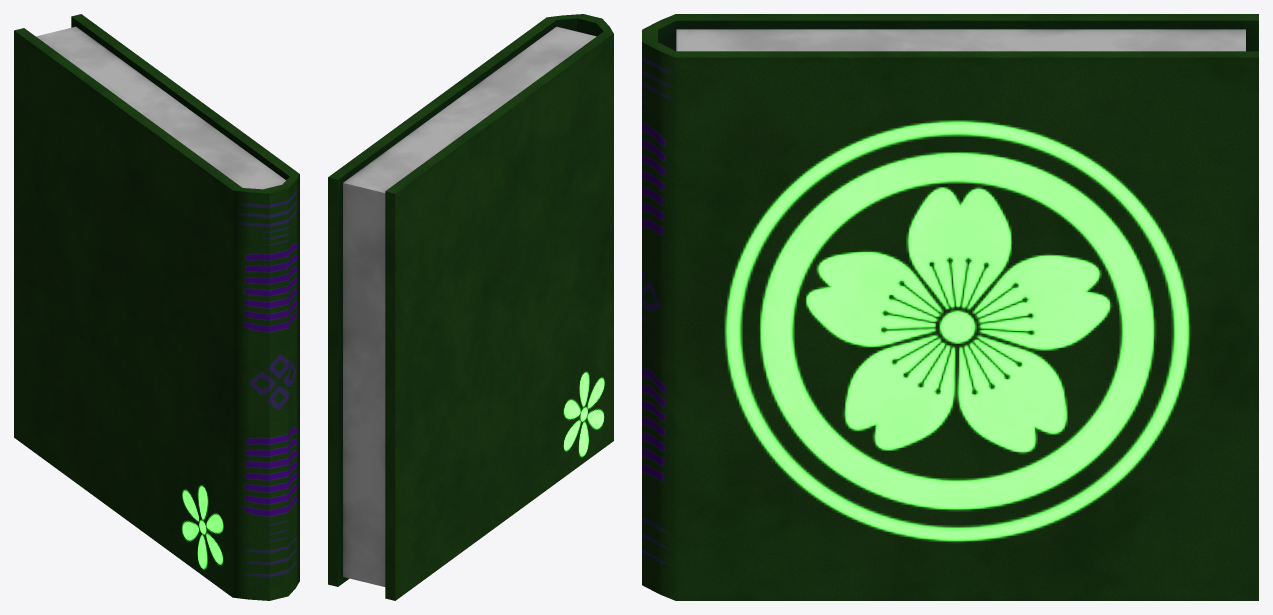
The model's file is Libro_Ev2 1.fbx.
3 renders of one model, left to right at view 1: azimuth 30°, elevation 25°; view 2: azimuth 150°, elevation 25°; view 3: azimuth 270°, elevation 25°, orthographic. The views are drawn at different scales.
Visible parts, largest first — view 1: Libro_E_geo, Hojas_E; view 2: Libro_E_geo, Hojas_E; view 3: Libro_E_geo, Hojas_E.
Boxes of the visible parts, x1,y1,x2,y2 form: Libro_E_geo: (14, 14, 299, 600); Hojas_E: (36, 26, 285, 189); Libro_E_geo: (328, 14, 613, 600); Hojas_E: (343, 26, 596, 586); Libro_E_geo: (642, 14, 1258, 600); Hojas_E: (676, 29, 1245, 51).
Bounding box in the file's own units: 4.07 × 23.5 × 24.19.
1 material, 1 textured.
